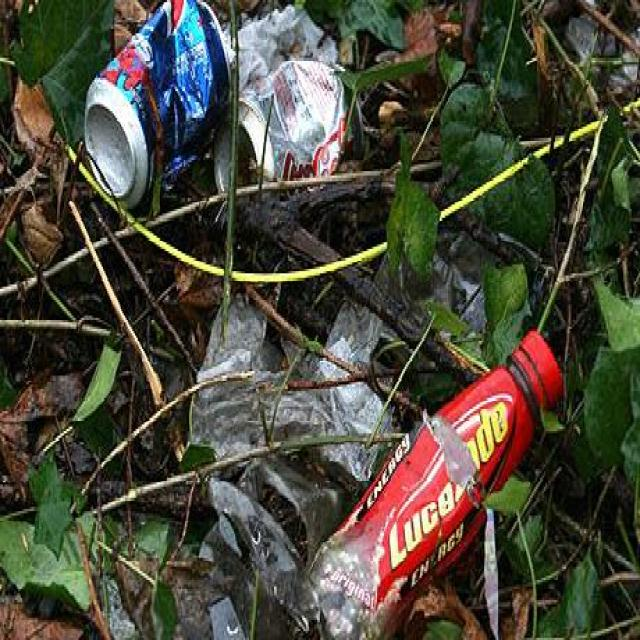garbage: (52, 9, 570, 640)
